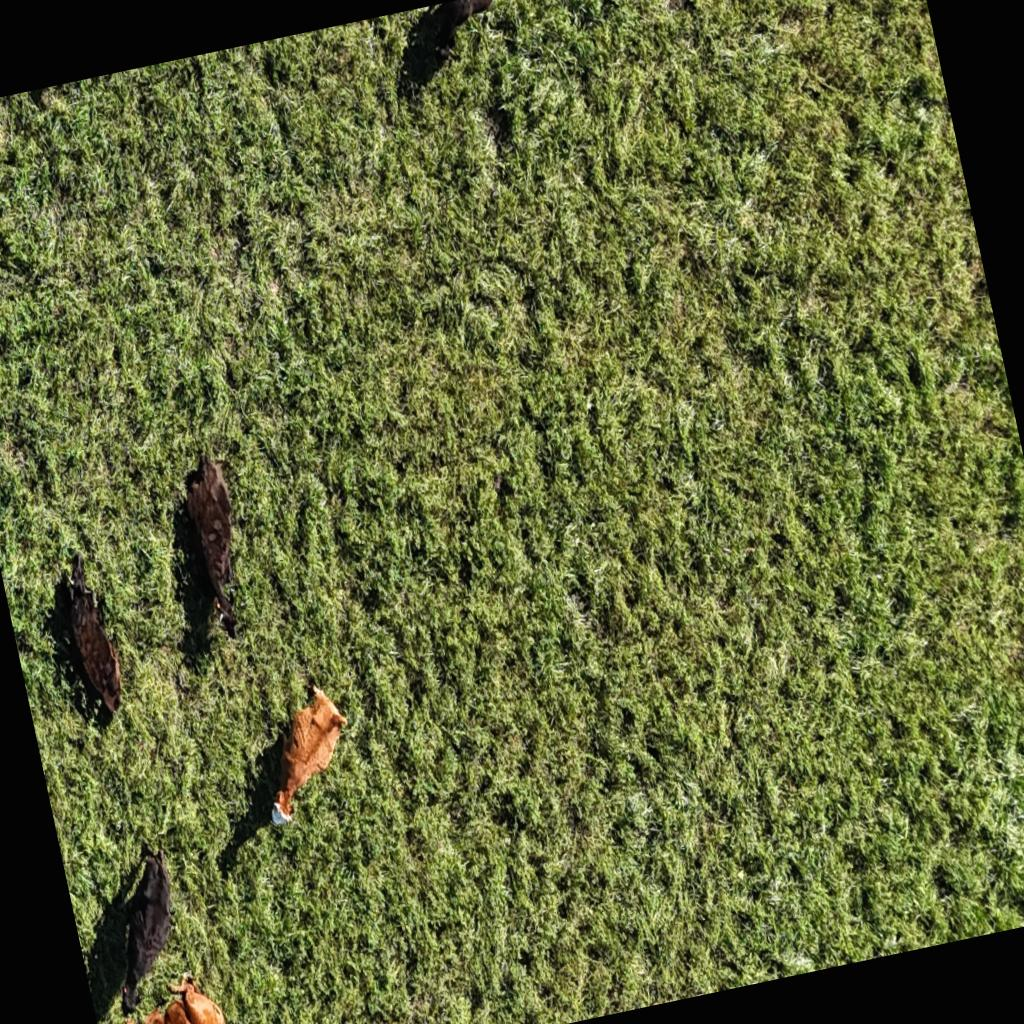cow: (213, 614, 409, 873), (3, 528, 157, 744), (154, 408, 283, 654), (67, 821, 217, 1024), (406, 0, 530, 97), (90, 952, 251, 1024)
